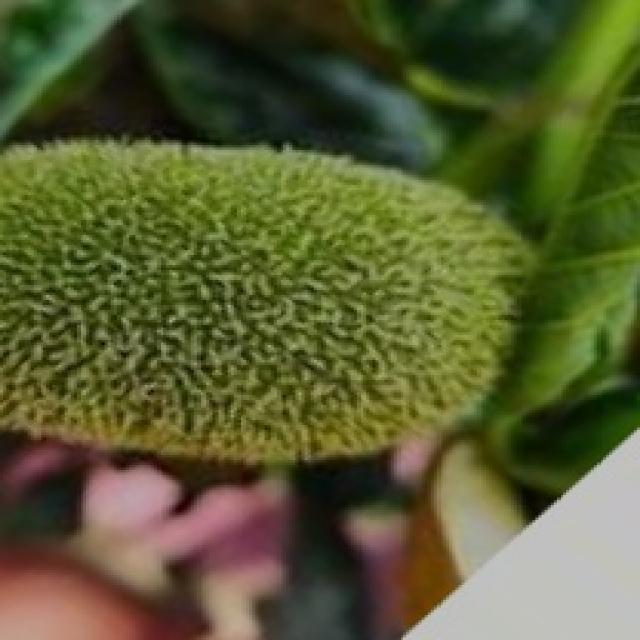Fruit: (0, 77, 409, 505)
